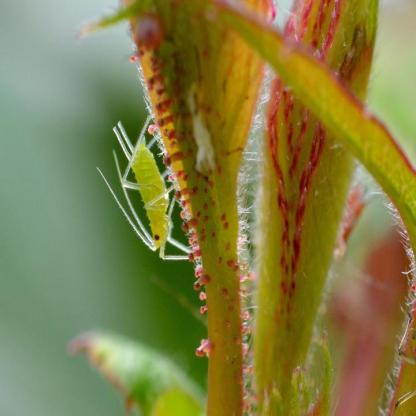aphid: (100, 104, 191, 267)
